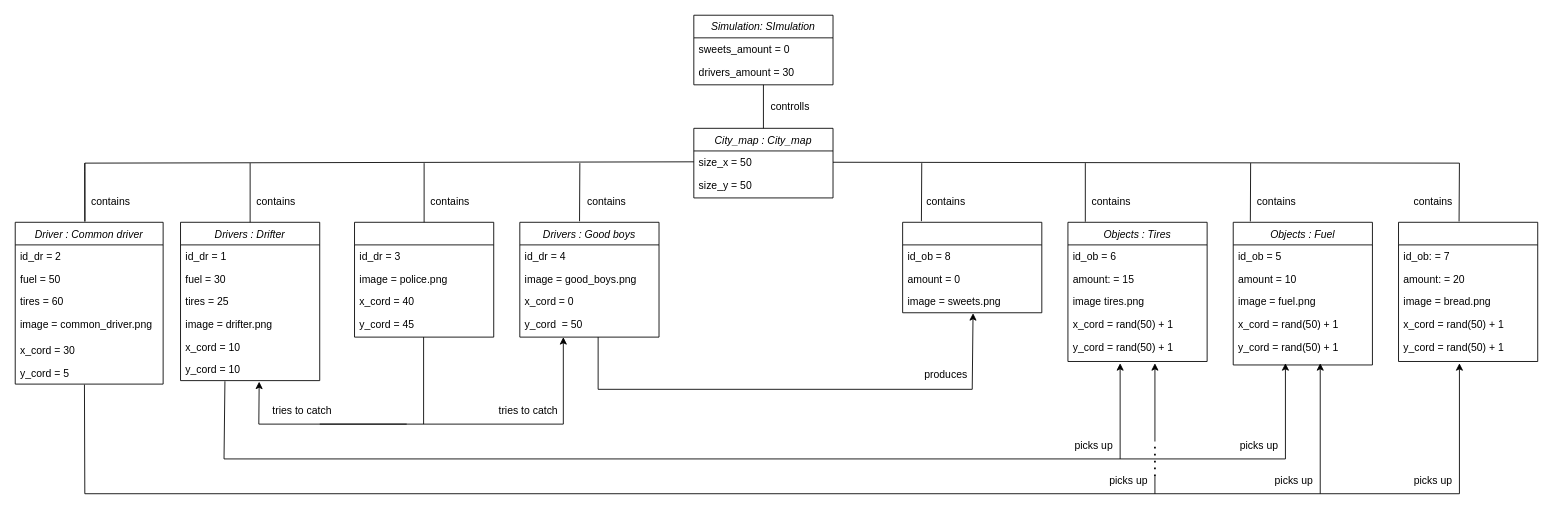
This 1553x516 diagram has some shape labels left out. Here are the shapes that lost their labels. From the top down, the box of each, then its label:
(354, 221, 494, 337): Drivers : Police
(902, 221, 1042, 313): Objects : Sweets
(1398, 221, 1538, 361): Objects : Bread
